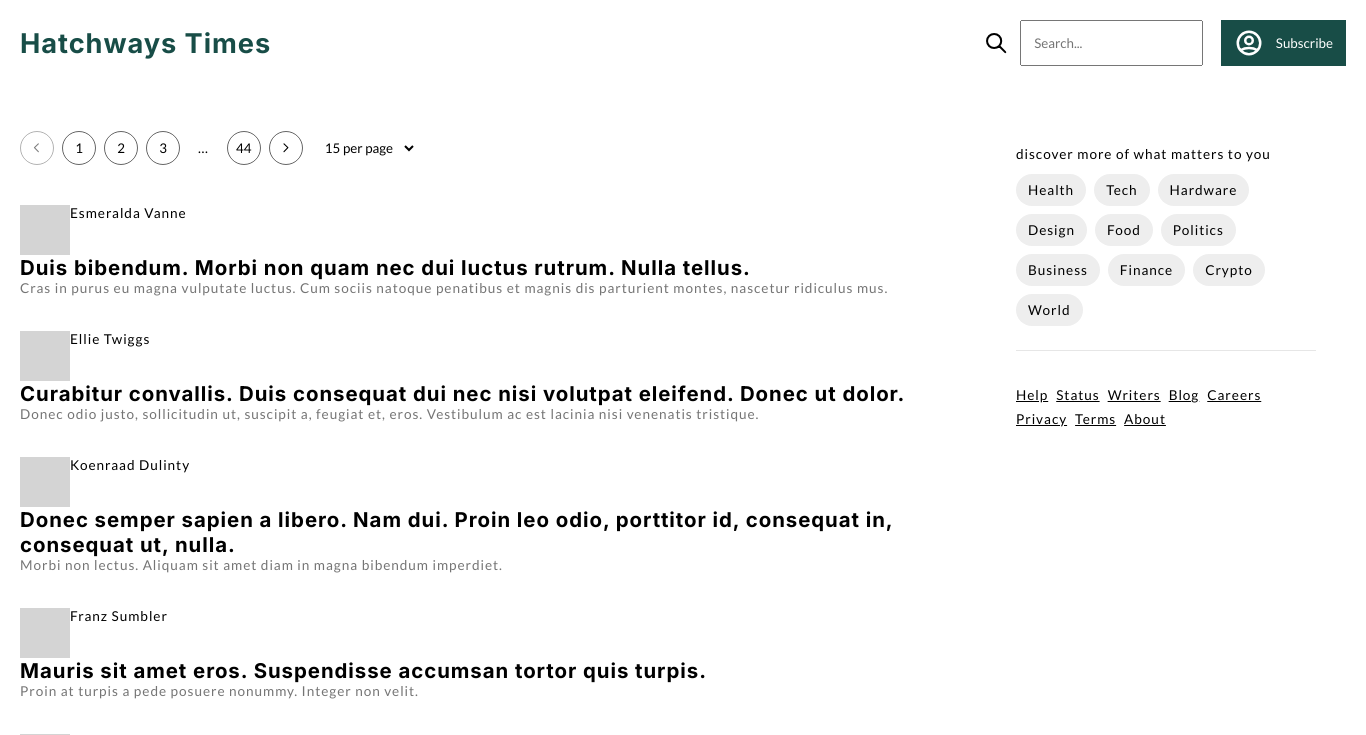
Test: Changing page size from 15 to 25 should render 25 posts
This screenshot has width=1366, height=735.
Select "25 per page" in the dropdown named "Select page size" at (369, 148), box [321, 139, 417, 157]
(page scrolled)
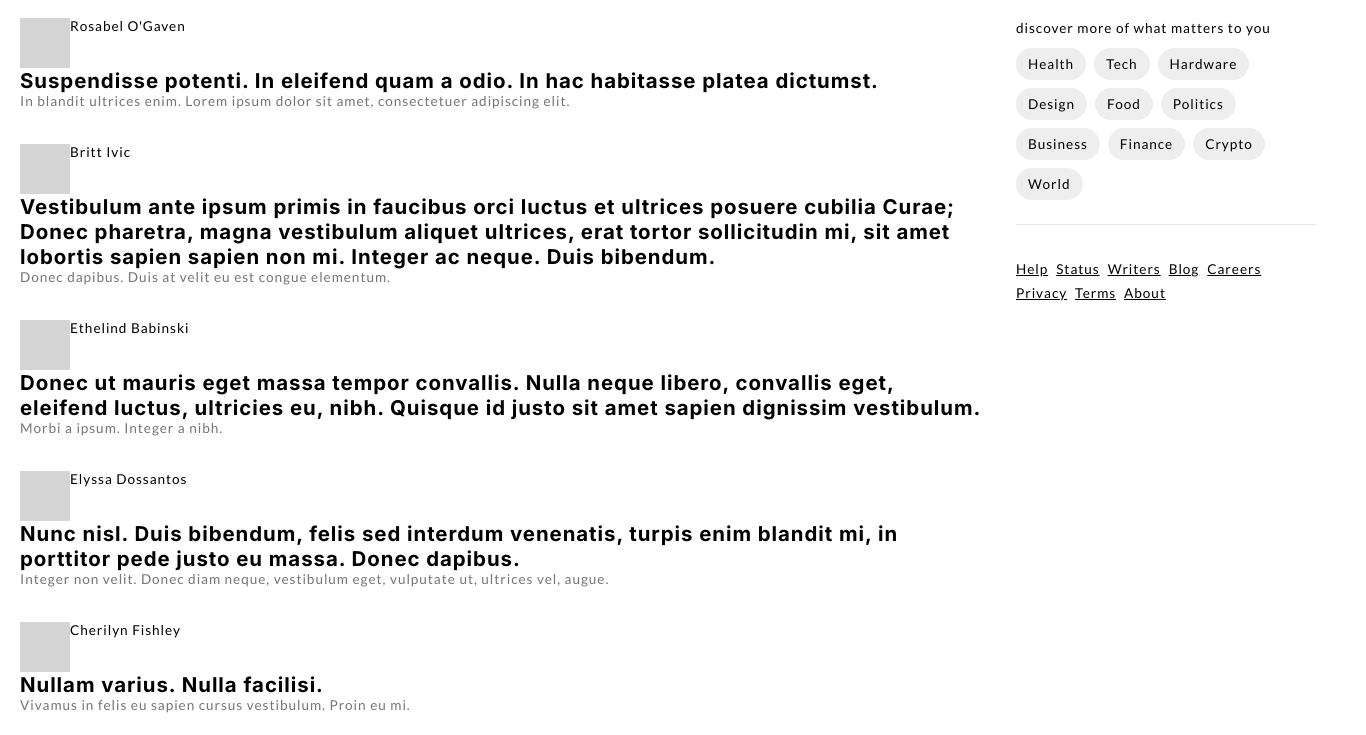
Expected: the heading "Suspendisse potenti. In eleifend quam a odio. In hac habitasse platea dictumst." is shown, [20, 68, 986, 93]
Expected: the text "Rosabel O'Gaven" is shown, [70, 18, 186, 34]
Expected: the text "In blandit ultrices enim. Lorem ipsum dolor sit amet, consectetuer adipiscing elit." is shown, [20, 93, 570, 109]
